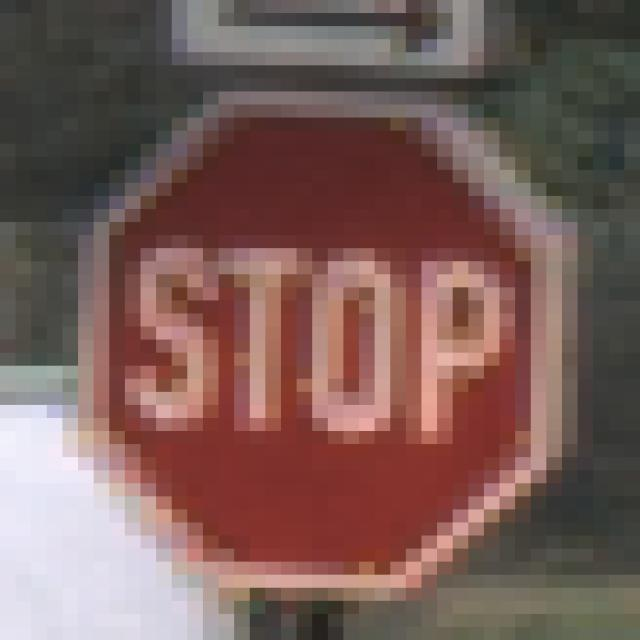STOP: (79, 79, 563, 576)
